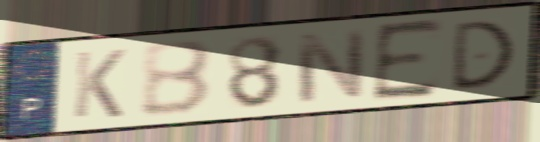8: (225, 33, 284, 111)
B: (139, 37, 216, 120)
D: (449, 17, 518, 94)
E: (369, 15, 446, 105)
K: (69, 46, 129, 121)
N: (293, 27, 368, 106)
